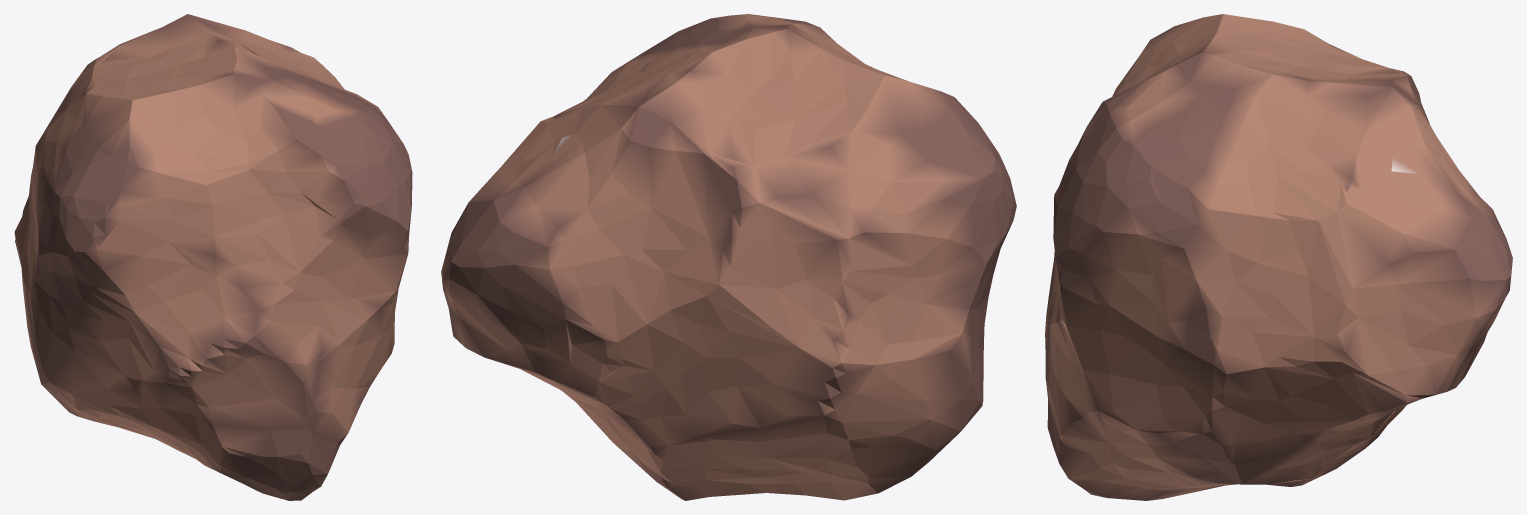
File: Meteorite7(broken).fbx
3 renders of one model, left to right at view 1: azimuth 30°, elevation 25°; view 2: azimuth 150°, elevation 25°; view 3: azimuth 270°, elevation 25°, orthographic. The views are drawn at different scales.
Visible parts, largest first — view 1: Meteorite9, Meteorite13, Meteorite14, Meteorite12, Meteorite15, Meteorite11; view 2: Meteorite15, Meteorite10, Meteorite8, Meteorite16, Meteorite13, Meteorite12, Meteorite14; view 3: Meteorite12, Meteorite16, Meteorite13, Meteorite11, Meteorite9, Meteorite10, Meteorite15, Meteorite8.
Boxes of the visible parts, box(x1,y1,x2,y2) form: Meteorite9: box(164, 192, 395, 493); Meteorite13: box(92, 14, 322, 240); Meteorite14: box(27, 218, 191, 426); Meteorite12: box(188, 14, 412, 351); Meteorite15: box(14, 68, 145, 325); Meteorite11: box(86, 383, 316, 500); Meteorite15: box(754, 75, 1013, 401); Meteorite10: box(513, 106, 832, 396); Meteorite8: box(590, 366, 960, 500); Meteorite16: box(441, 109, 655, 480); Meteorite13: box(639, 17, 906, 167); Meteorite12: box(525, 14, 780, 205); Meteorite14: box(926, 166, 1016, 431); Meteorite12: box(1053, 88, 1469, 457); Meteorite16: box(1202, 155, 1512, 484); Meteorite13: box(1087, 14, 1404, 125); Meteorite11: box(1069, 420, 1318, 500); Meteorite9: box(1045, 252, 1109, 480); Meteorite10: box(1391, 68, 1494, 217); Meteorite15: box(1223, 14, 1361, 58); Meteorite8: box(1311, 405, 1406, 478).
Size of the model in its own units: 2142 by 2121 by 2072.
